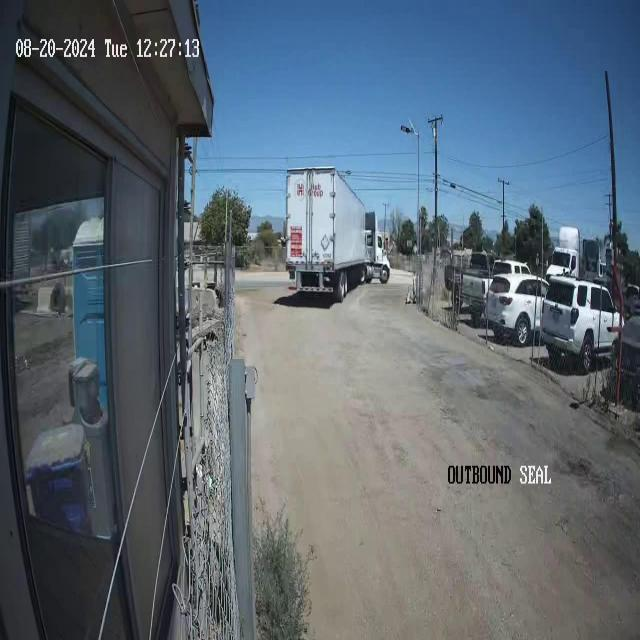TRUCK_CONTAINER: (284, 165, 391, 303)
